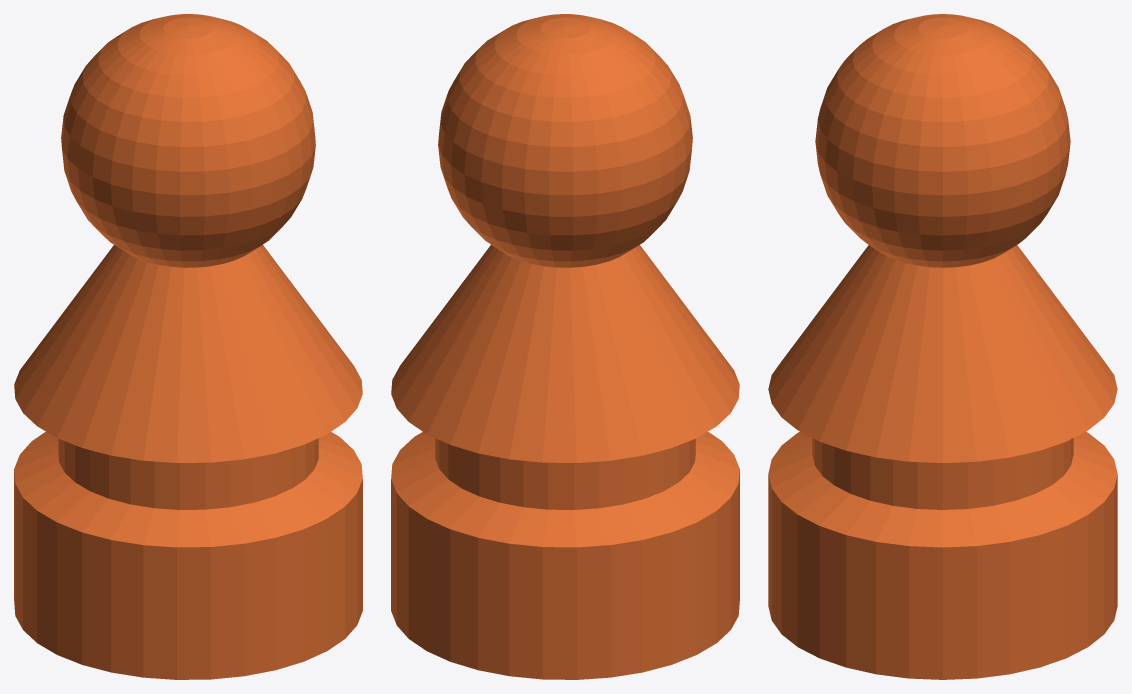
The model's file is peao.fbx.
The picture shows the model from 3 angles, left to right: view 1: azimuth 30°, elevation 25°; view 2: azimuth 150°, elevation 25°; view 3: azimuth 270°, elevation 25°; orthographic projection.
Visible parts, largest first — view 1: Cylinder, Sphere; view 2: Cylinder, Sphere; view 3: Cylinder, Sphere.
Part boxes in pixels (box(x1,y1,x2,y2)): Cylinder: box(14, 245, 362, 679); Sphere: box(61, 14, 315, 267); Cylinder: box(391, 245, 739, 679); Sphere: box(438, 14, 692, 267); Cylinder: box(768, 245, 1117, 679); Sphere: box(815, 14, 1070, 267).
Size of the model in its own units: 200 by 367 by 200.
